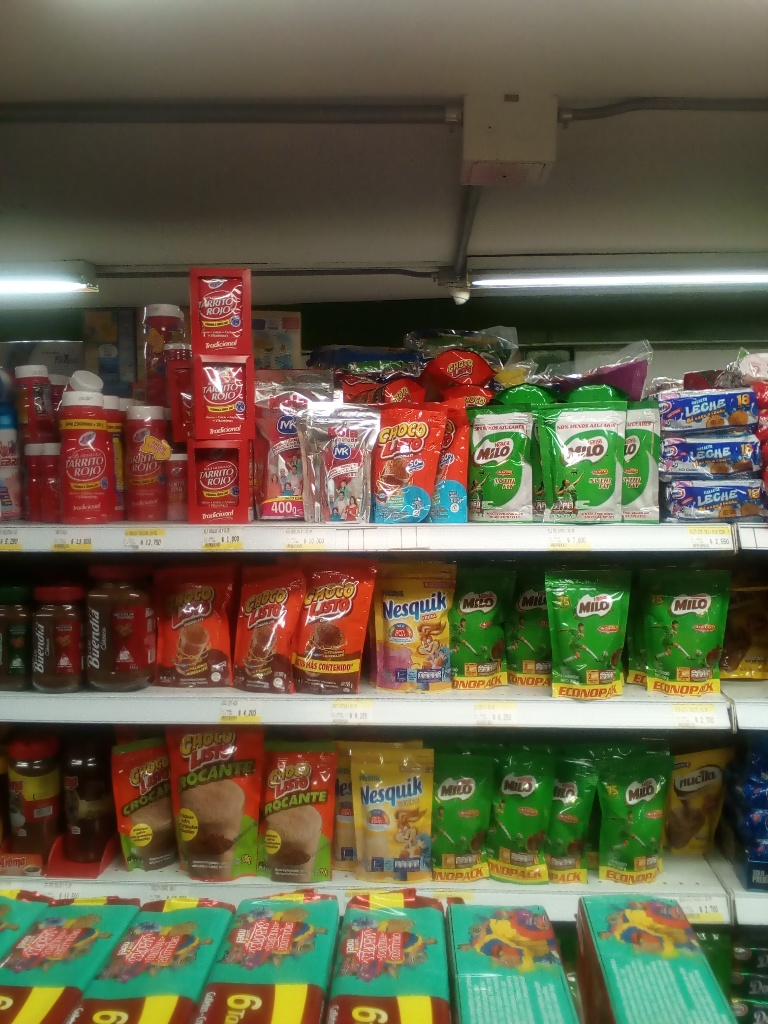COL0170102DYP25000: (261, 741, 337, 881)
COL0170102DYP50000: (168, 726, 261, 879)
COL0170103DYP20000: (231, 560, 299, 693)
COL0170104DYP20000: (372, 402, 447, 526)
COL0170203DYP25000: (595, 747, 666, 885)
COL0170205DYP20000: (534, 401, 624, 522)
COL0170305DYP20000: (370, 560, 456, 694)
COL0170306DYP20000: (346, 742, 437, 883)
